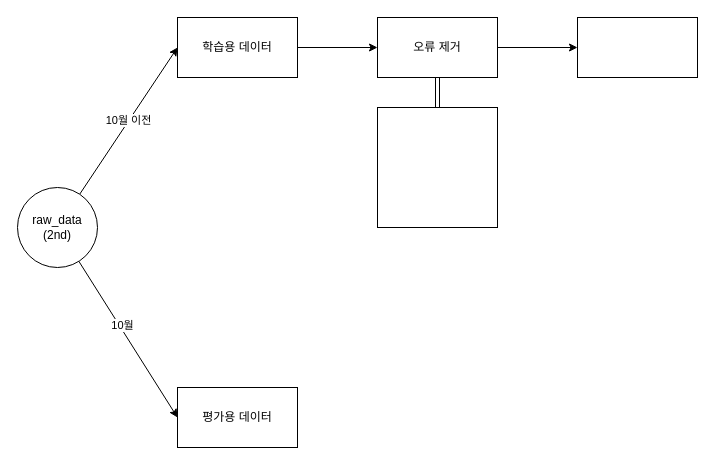
Some shapes in this 715 by 465 pixel diagram are drawn without their labels. Each missing label, with the centre of its shape:
1) 2 < scale < 4 2) E_scr_pv == 8: the point at 437,167
컬럼 제거: the point at 637,47
